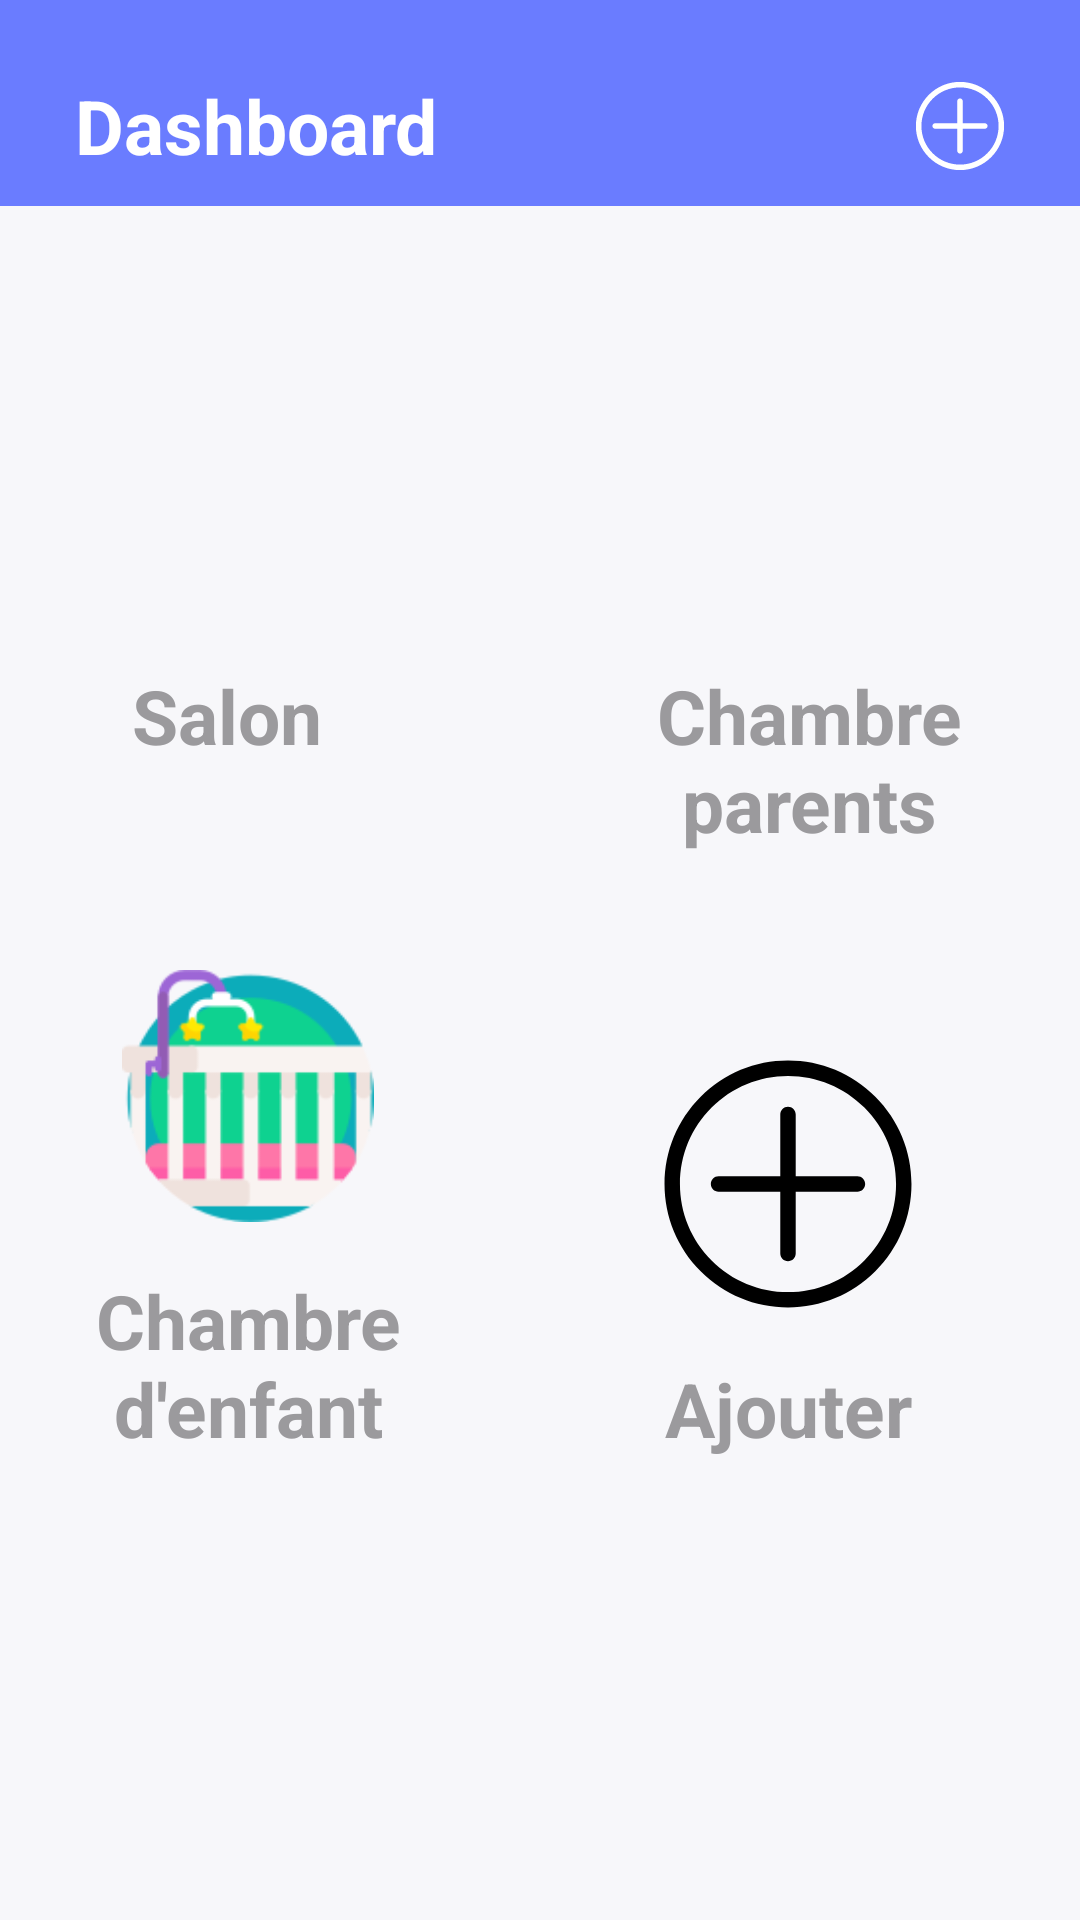

Icon click points for this 1080×1920 phone screenshot, format [x,y]:
baby crib: [248,1096]
